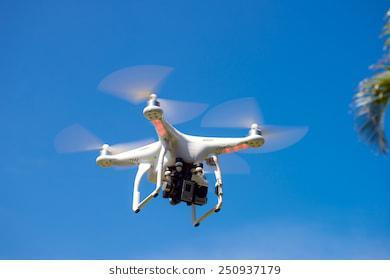drone: (47, 52, 318, 239)
